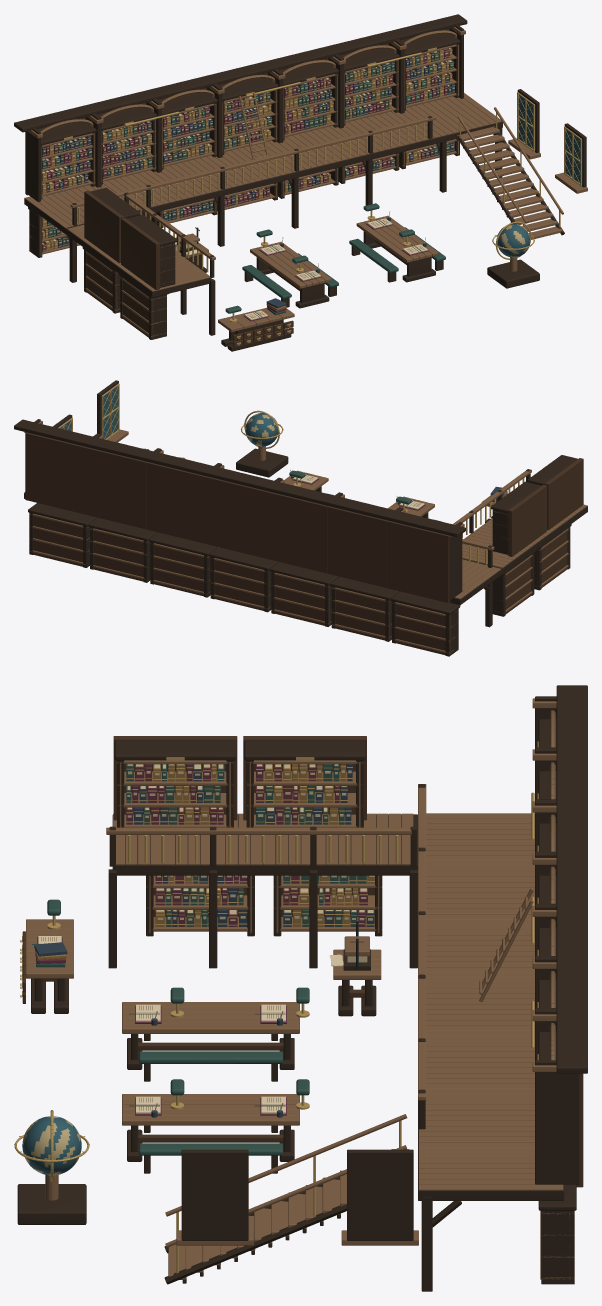
Rendered from reading_gallery.glb.
The picture shows the model from 3 angles, top to bottom: view 1: azimuth 30°, elevation 25°; view 2: azimuth 150°, elevation 25°; view 3: azimuth 270°, elevation 25°; orthographic projection. The views are drawn at different scales.
Visible parts, largest first — view 1: Library_-6_0_panel_0.018, Library_-5_1_oak_0.03, Library_-5_1_oak_0.018, Library_-5_1_edge_0.018, Library_-6_0_oak_0.018, Library_-5_1_edge_0.003, Library_-4_1_edge_0.003, Library_-3_0_edge_0.018, Library_-4_1_oak_0.018, Library_-6_1_oak_0.018, Library_-3_1_edge_0.003, Library_-3_1_oak_0.018 (+55 smaller); view 2: Library_-6_1_panel_0.018, Library_-5_1_panel_0.018, Library_-4_1_panel_0.018, Library_-3_1_panel_0.018, Library_-6_0_panel_0.018, Library_-5_1_oak_0.03, Library_-6_0_oak_0.018, Library_-6_1_oak_0.018, Library_-6_1_oak_0.035, Library_-4_1_oak_0.035, Library_-5_1_oak_0.035, Library_-5_1_edge_0.018 (+15 smaller); view 3: Library_-3_1_oak_0.018, Library_-5_1_oak_0.03, Library_-6_0_edge_0.018, Library_-6_1_edge_0.003, Library_-4_1_edge_0.003, Library_-6_0_oak_0.018, Library_-5_1_edge_0.003, Library_-3_1_edge_0.003, Library_-6_0_edge_0.003, Library_-3_0_oak_0.018, Library_-5_0_edge_0.018, Library_-6_0_oak_0.035 (+34 smaller).
Boxes of the visible parts, <box> form: Library_-6_0_panel_0.018: <box>84,191,161,339</box>; Library_-5_1_oak_0.03: <box>14,14,467,132</box>; Library_-5_1_oak_0.018: <box>24,83,502,246</box>; Library_-5_1_edge_0.018: <box>70,86,436,224</box>; Library_-6_0_oak_0.018: <box>65,213,215,339</box>; Library_-5_1_edge_0.003: <box>132,144,292,202</box>; Library_-4_1_edge_0.003: <box>256,114,416,172</box>; Library_-3_0_edge_0.018: <box>474,150,587,239</box>; Library_-4_1_oak_0.018: <box>267,54,372,228</box>; Library_-6_1_oak_0.018: <box>26,113,150,282</box>; Library_-3_1_edge_0.003: <box>379,93,501,142</box>; Library_-3_1_oak_0.018: <box>389,24,539,192</box>; Library_-6_1_panel_0.018: <box>327,506,450,655</box>; Library_-5_1_panel_0.018: <box>206,476,329,626</box>; Library_-4_1_panel_0.018: <box>85,447,206,596</box>; Library_-3_1_panel_0.018: <box>25,432,86,566</box>; Library_-6_0_panel_0.018: <box>501,458,583,615</box>; Library_-5_1_oak_0.03: <box>14,419,465,537</box>; Library_-6_0_oak_0.018: <box>462,469,587,616</box>; Library_-6_1_oak_0.018: <box>385,507,492,656</box>; Library_-6_1_oak_0.035: <box>330,576,460,614</box>; Library_-4_1_oak_0.035: <box>88,517,217,555</box>; Library_-5_1_oak_0.035: <box>209,547,338,585</box>; Library_-5_1_edge_0.018: <box>210,479,494,623</box>; Library_-3_1_oak_0.018: <box>347,1008,579,1291</box>; Library_-5_1_oak_0.03: <box>556,685,587,1073</box>; Library_-6_0_edge_0.018: <box>106,760,411,959</box>; Library_-6_1_edge_0.003: <box>364,813,534,903</box>; Library_-4_1_edge_0.003: <box>425,1009,534,1115</box>; Library_-6_0_oak_0.018: <box>108,760,417,968</box>; Library_-5_1_edge_0.003: <box>426,903,534,1009</box>; Library_-3_1_edge_0.003: <box>419,1115,563,1190</box>; Library_-6_0_edge_0.003: <box>113,813,363,864</box>; Library_-3_0_oak_0.018: <box>181,1149,340,1283</box>; Library_-5_0_edge_0.018: <box>122,936,381,1033</box>; Library_-6_0_oak_0.035: <box>114,740,365,760</box>.
Size of what is drawn, in the model's own units: 22.27 by 6.06 by 13.72.
